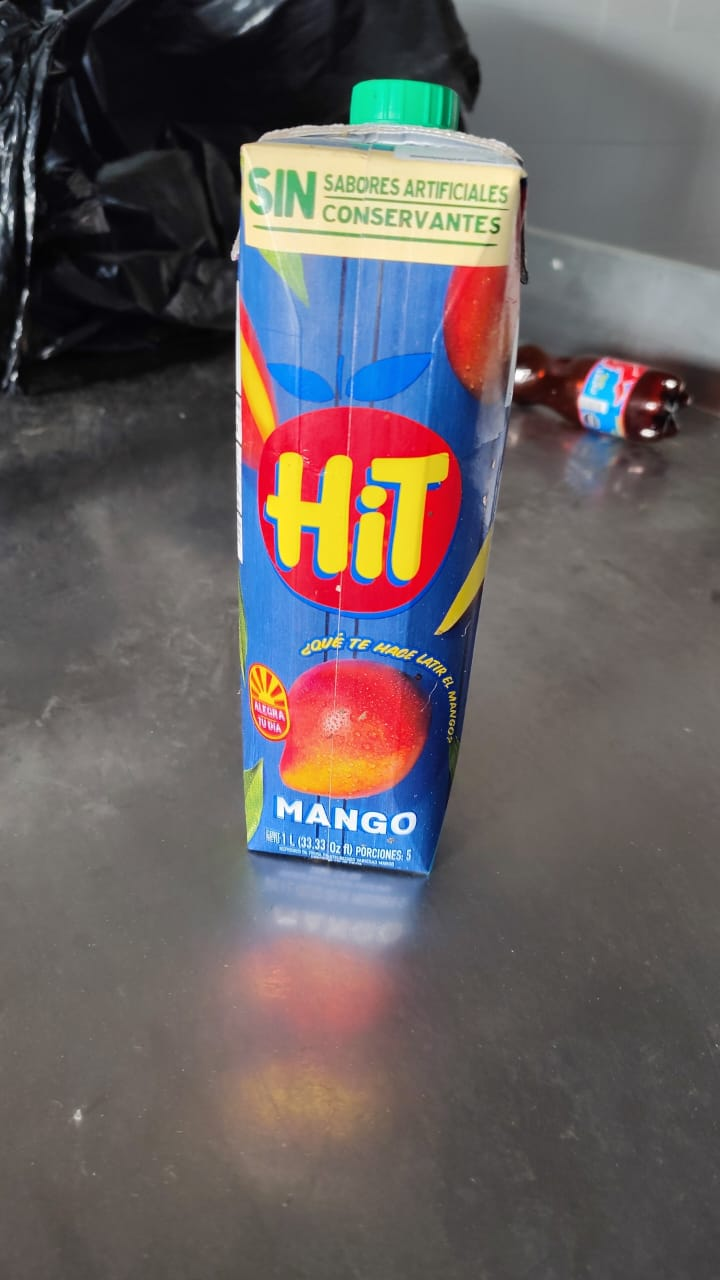Carton: (230, 134, 530, 875)
